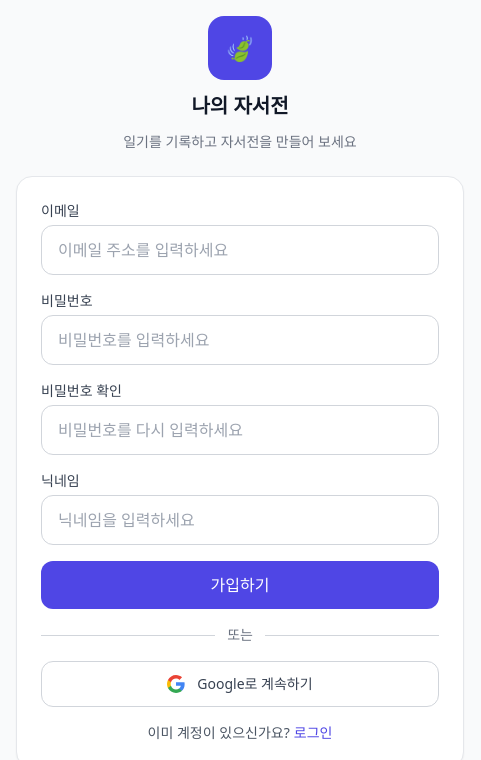
SignupPage (리디자인) › validateForm 유효성 검증 › should show error when email format is invalid
The width and height of the screenshot is (481, 760).
In the field with test id "email-input": [240, 250] box [41,225,439,275], type "invalid-email"
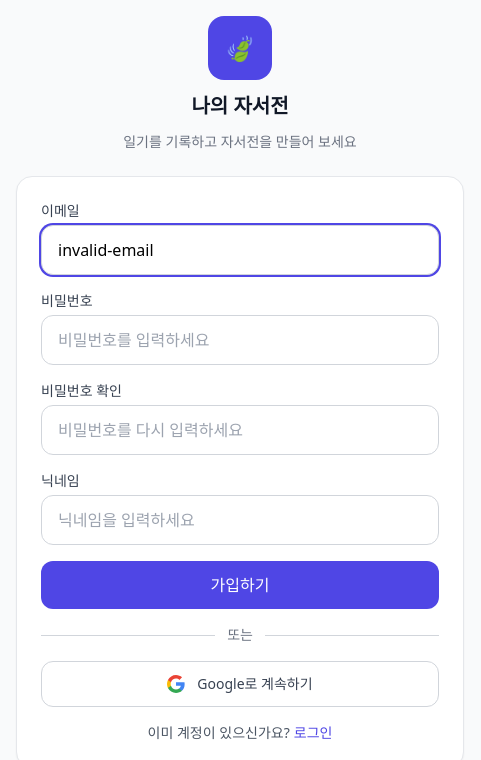
Click the button with test id "submit-button": [240, 585] box [41,561,439,609]
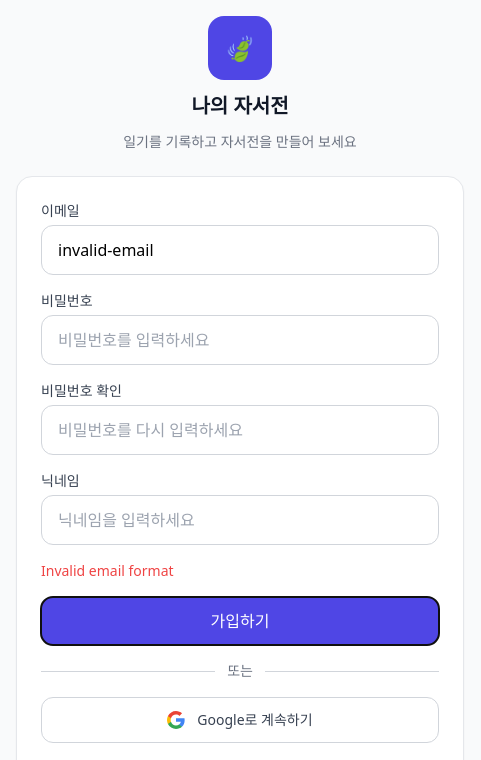
Expected: the message "Invalid email format" is shown, [41,561,174,580]
